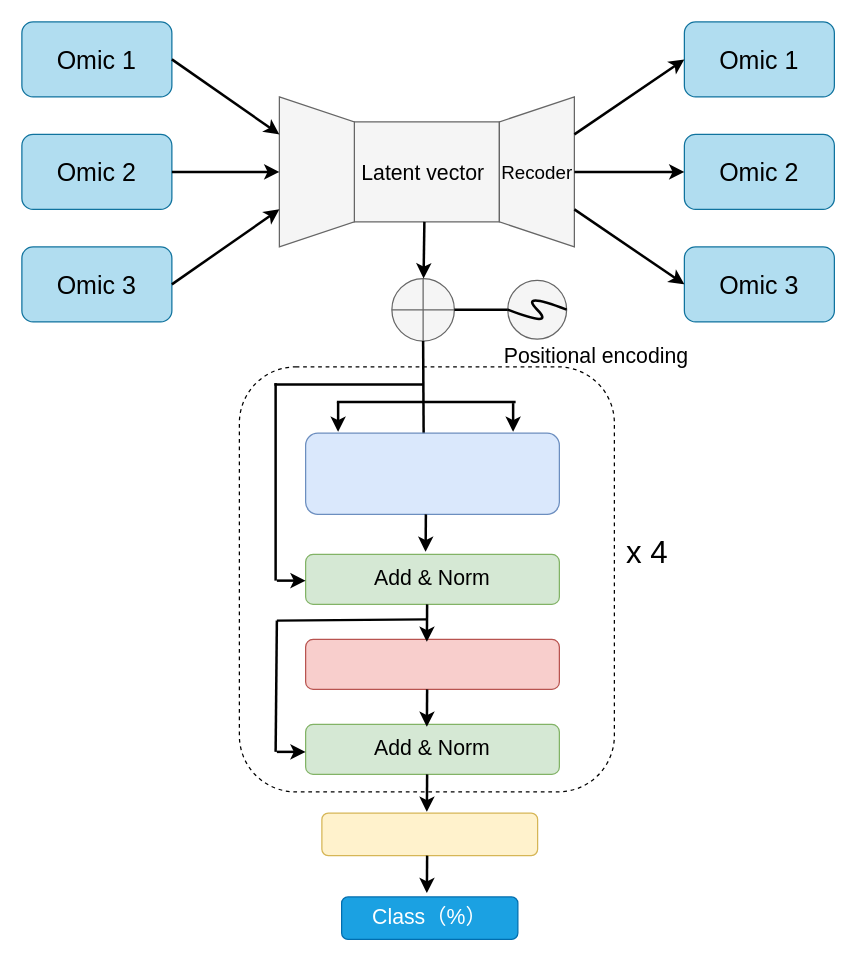
The diagram is 856 pixels wide and 961 high, and some of its shapes have lost their labels. The box of each missing label's shape, as (x1, y1, x2, y2) in pixels:
Encoder: (278, 96, 354, 247)
FFN: (304, 638, 559, 689)
MLP: (321, 812, 538, 856)
Multi-Head Attention: (304, 432, 559, 514)
